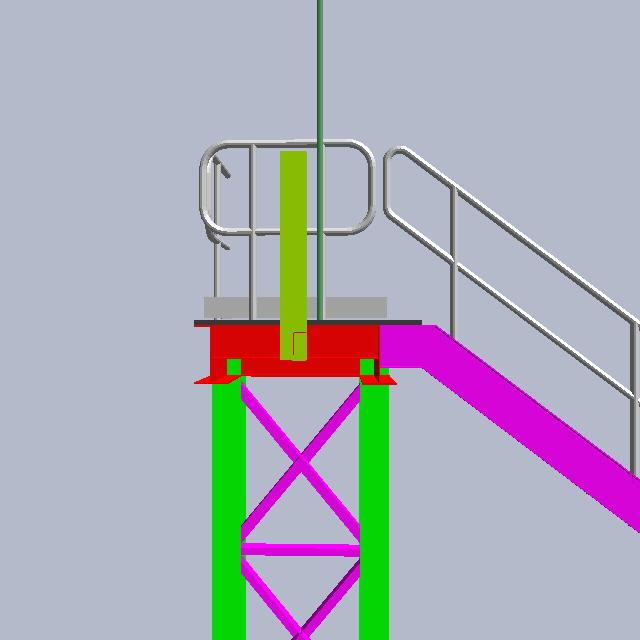Poste: (314, 1, 326, 329)
Soporte: (276, 145, 315, 376)
